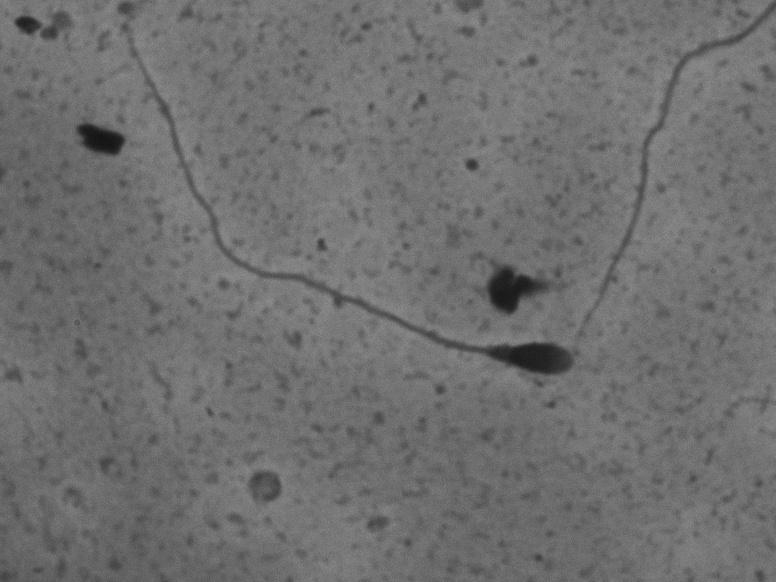Abnormal: (107, 12, 592, 387)
